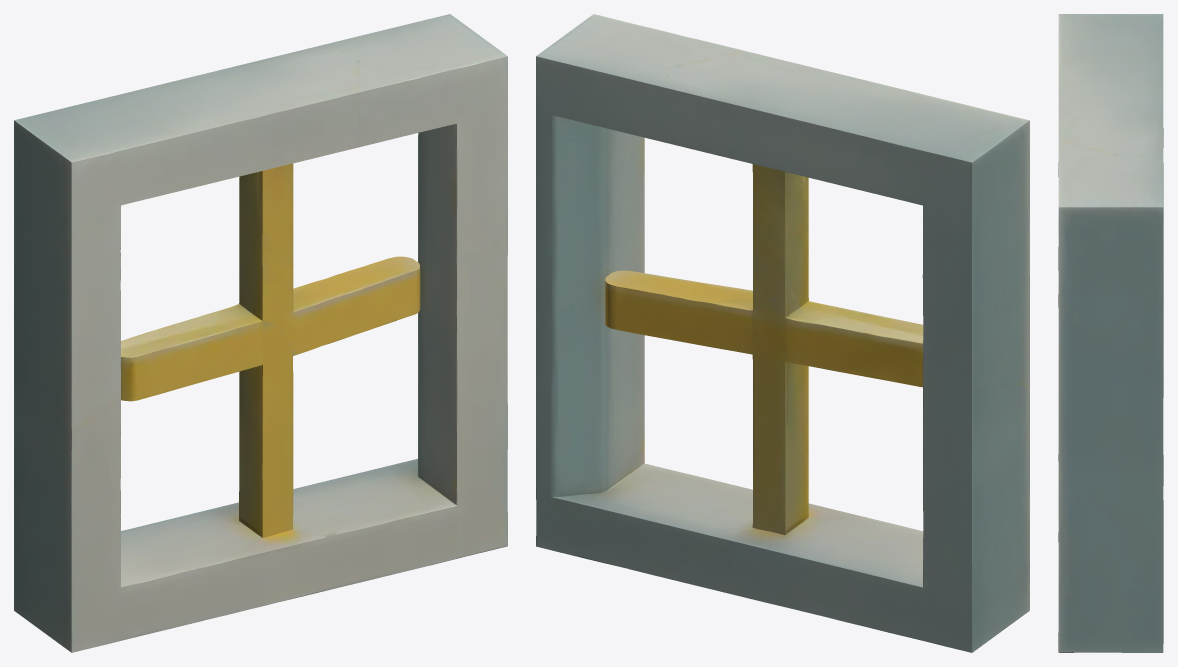
The model's file is buildWindow.glb.
3 views of the same model, side by side, from view 1: azimuth 30°, elevation 25°; view 2: azimuth 150°, elevation 25°; view 3: azimuth 270°, elevation 25° (orthographic). The views are drawn at different scales.
Parts seen in each view (by area): view 1: model; view 2: model; view 3: model.
Part boxes in pixels (box(x1,y1,x2,y2)): model: box(14, 14, 507, 652); model: box(536, 14, 1029, 652); model: box(1058, 14, 1163, 652).
Size of the model in its own units: 1.77 by 1.9 by 0.4065.
1 material, 1 textured.
